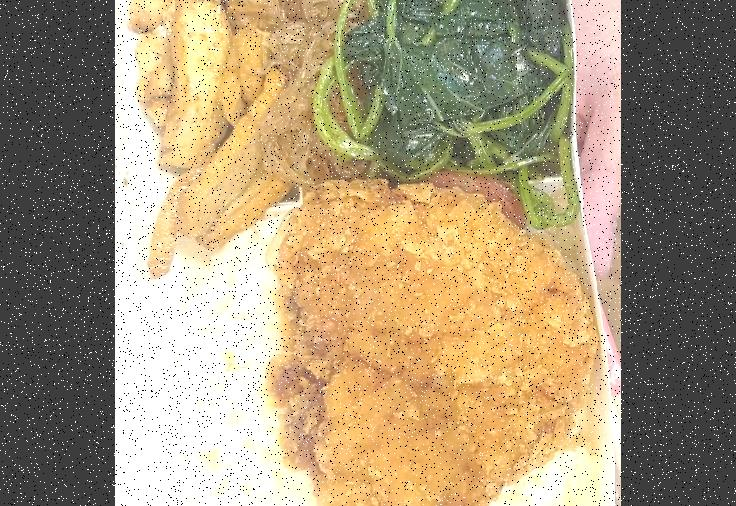box: (125, 0, 612, 506)
kara chicken leg steak: (278, 182, 591, 506)
side dish: (143, 0, 289, 272), (338, 0, 566, 171), (264, 0, 390, 188)
white rice: (168, 204, 580, 506)
